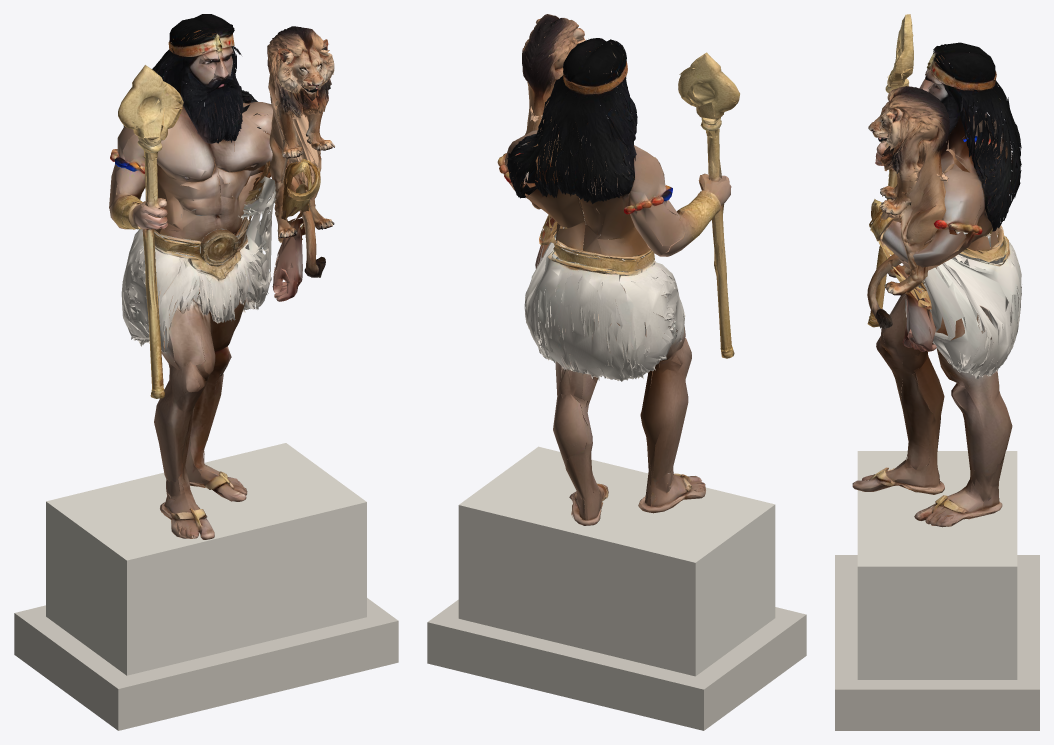
The model's file is gilgamesh_statue_before_new_king.glb.
3 views of the same model, side by side, from view 1: azimuth 30°, elevation 25°; view 2: azimuth 150°, elevation 25°; view 3: azimuth 270°, elevation 25° (orthographic).
Parts seen in each view (by area): view 1: gilgamesh_statue; view 2: gilgamesh_statue; view 3: gilgamesh_statue.
Boxes of the visible parts, bbox=[...] form: gilgamesh_statue: bbox=[14, 14, 398, 730]; gilgamesh_statue: bbox=[427, 14, 806, 730]; gilgamesh_statue: bbox=[835, 14, 1039, 730].
Size of the model in its own units: 2.8 by 6 by 1.8.
4 materials, 2 textured.
